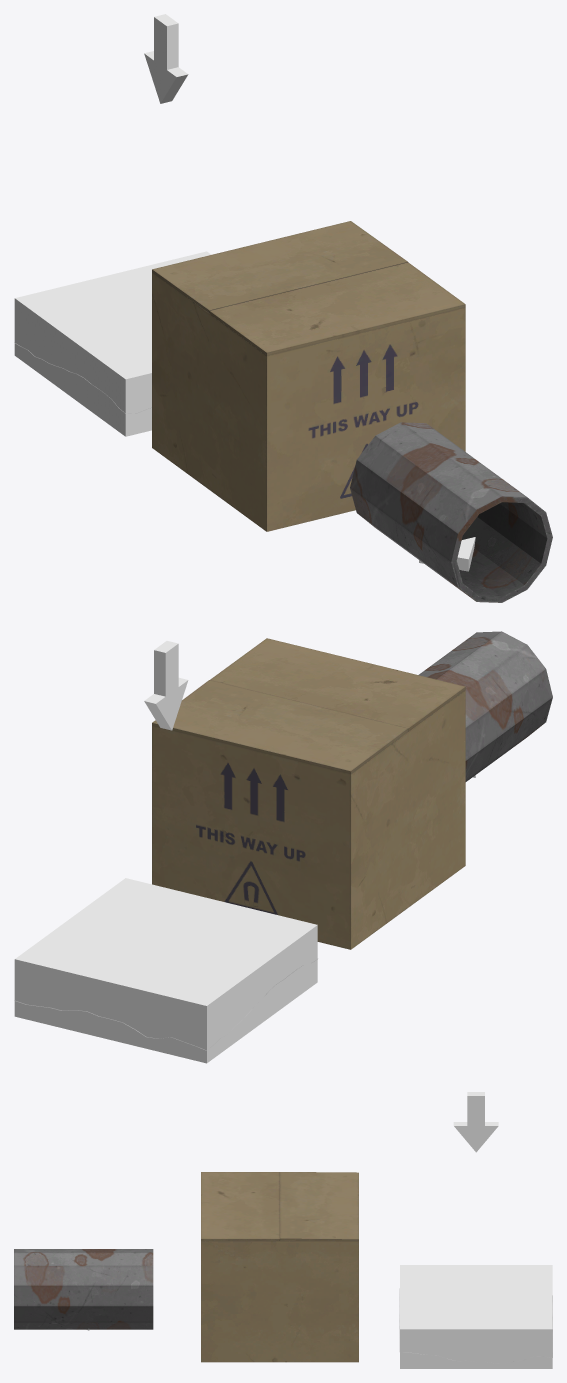
Rendered from Packager.glb.
3 renders of one model, top to bottom at view 1: azimuth 30°, elevation 25°; view 2: azimuth 150°, elevation 25°; view 3: azimuth 270°, elevation 25°, orthographic. The views are drawn at different scales.
Visible parts, largest first — view 1: Box, IronPipe, MachineTrigger, ghostarrow (1); view 2: Box, MachineTrigger, IronPipe, ghostarrow (1); view 3: Box, MachineTrigger, IronPipe, ghostarrow (1).
Part boxes in pixels (x1,y1,x2,y2): Box: [152, 221, 465, 531]; IronPipe: [350, 422, 552, 602]; MachineTrigger: [14, 251, 211, 436]; ghostarrow (1): [144, 14, 188, 103]; Box: [152, 638, 465, 949]; MachineTrigger: [14, 878, 317, 1063]; IronPipe: [418, 631, 552, 781]; ghostarrow (1): [144, 641, 188, 730]; Box: [201, 1172, 358, 1362]; MachineTrigger: [400, 1265, 552, 1368]; IronPipe: [14, 1249, 153, 1329]; ghostarrow (1): [453, 1092, 498, 1152].
Size of what is drawn, in the model's own units: 0.7246 by 1.23 by 2.47.
5 materials, 3 textured.
